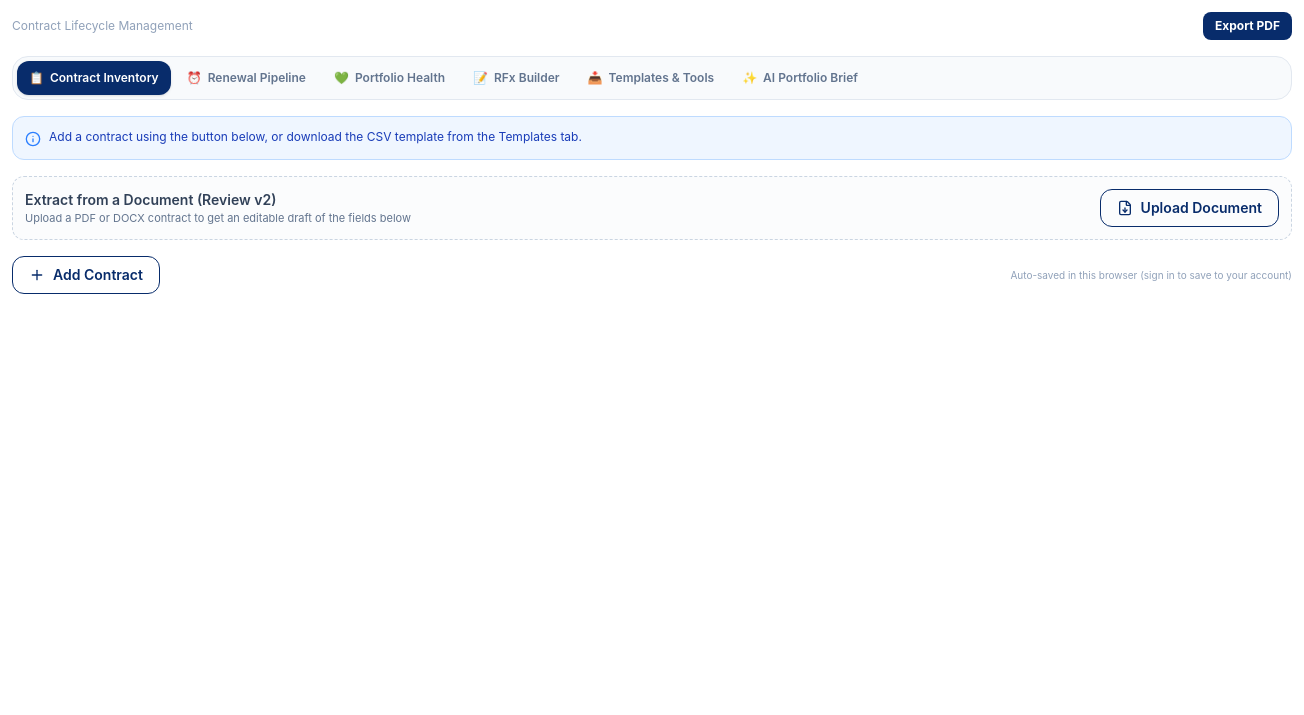
RFx Builder tab (registry #394) › recommends RFQ once specs are fixed and capability is known (price-only comparison)
Click the tab "📝 RFx Builder". click: click(516, 78)
box: [461,61,572,95]
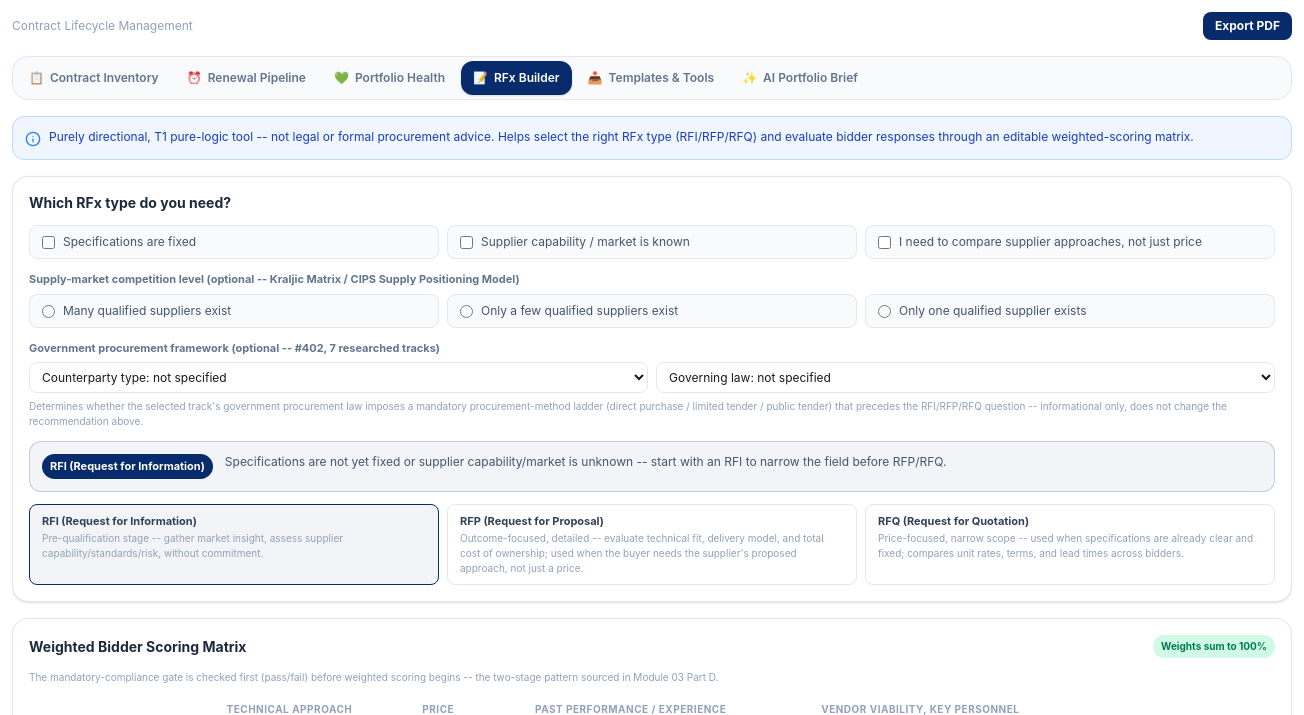
Click the checkbox labelled "Specifications are fixed". click: click(48, 242)
box: [42,236,55,249]
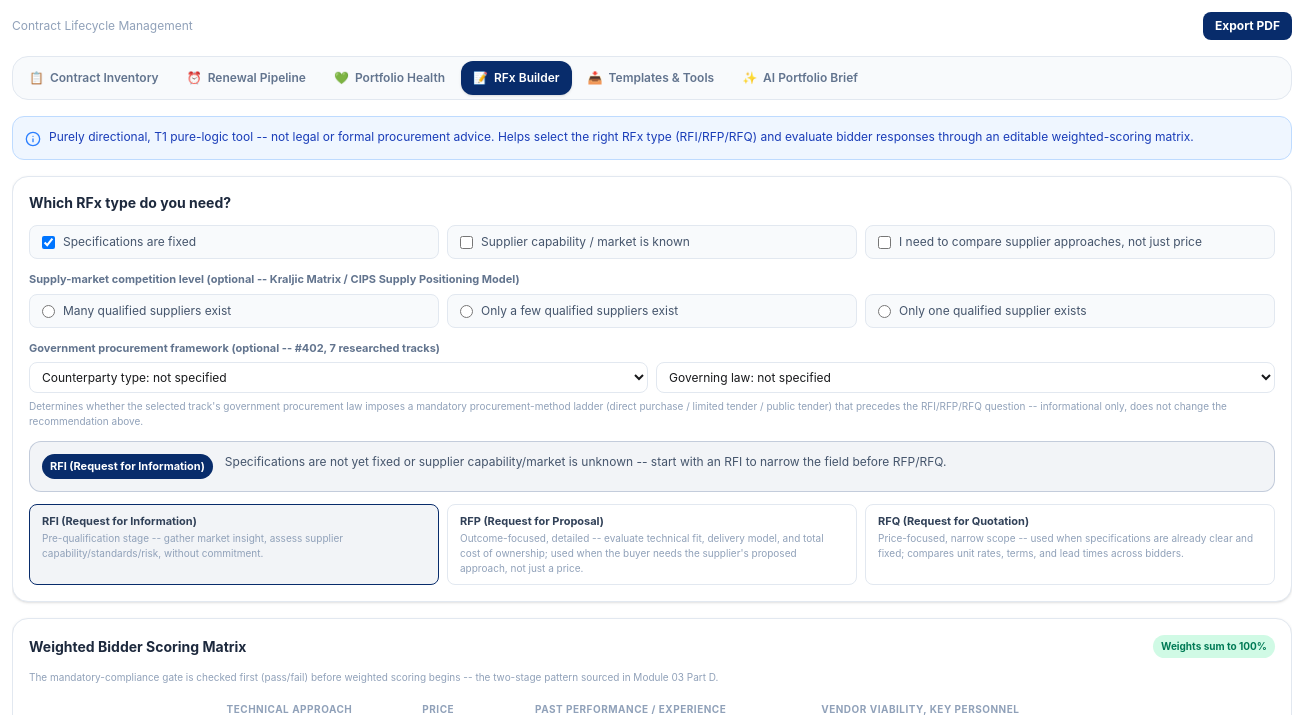
Click the checkbox labelled "Supplier capability / market is known". click: click(466, 242)
box: [460,236,473,249]
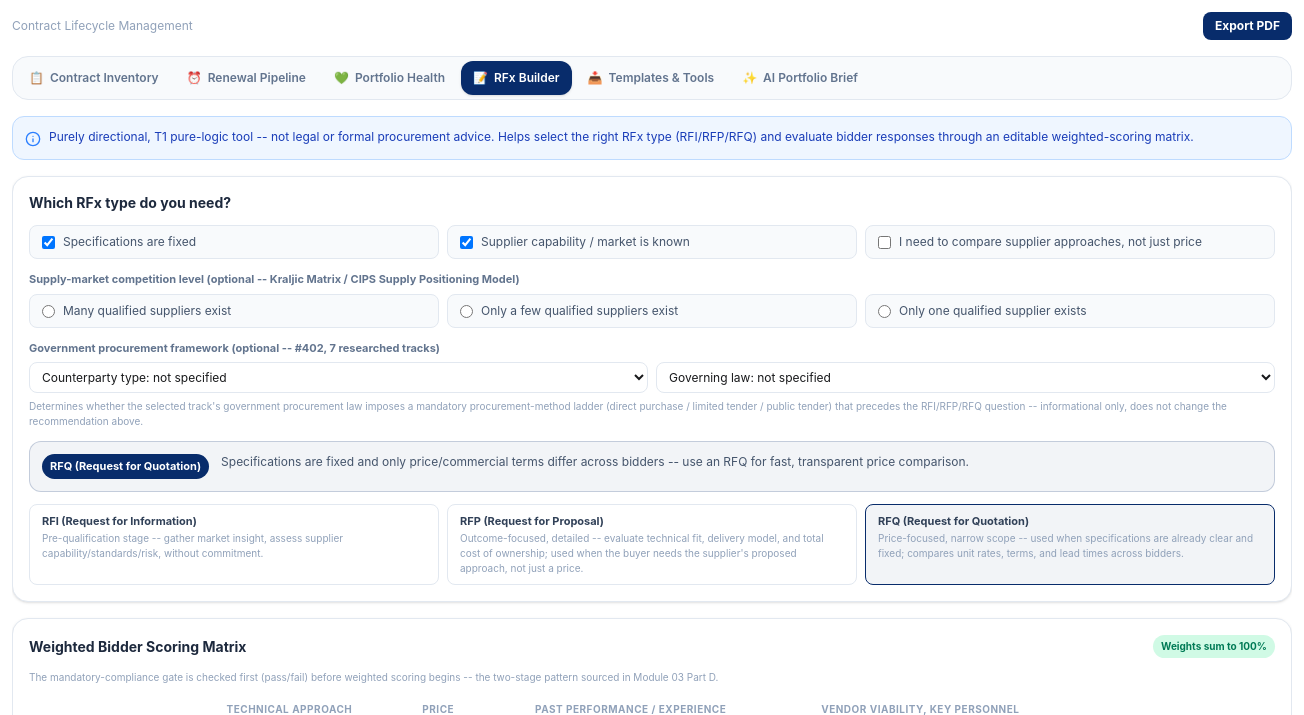
Now the text "fast, transparent price comparison" is shown, box [221,454,969,469]
